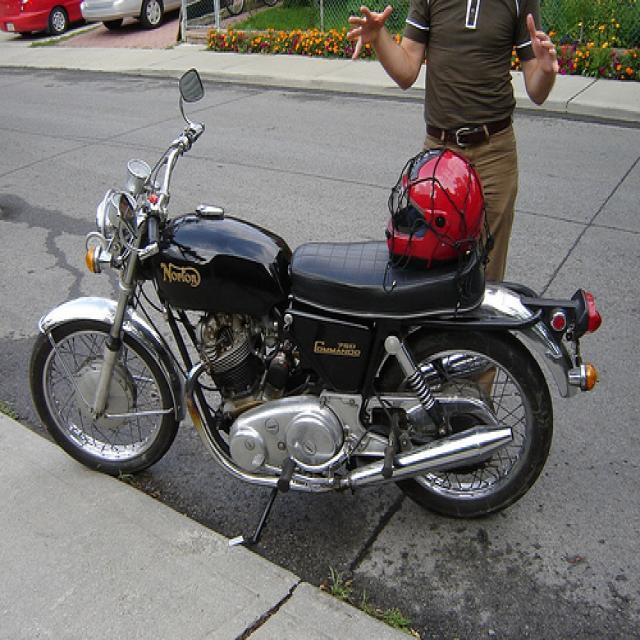Motorbike: (35, 69, 598, 522)
